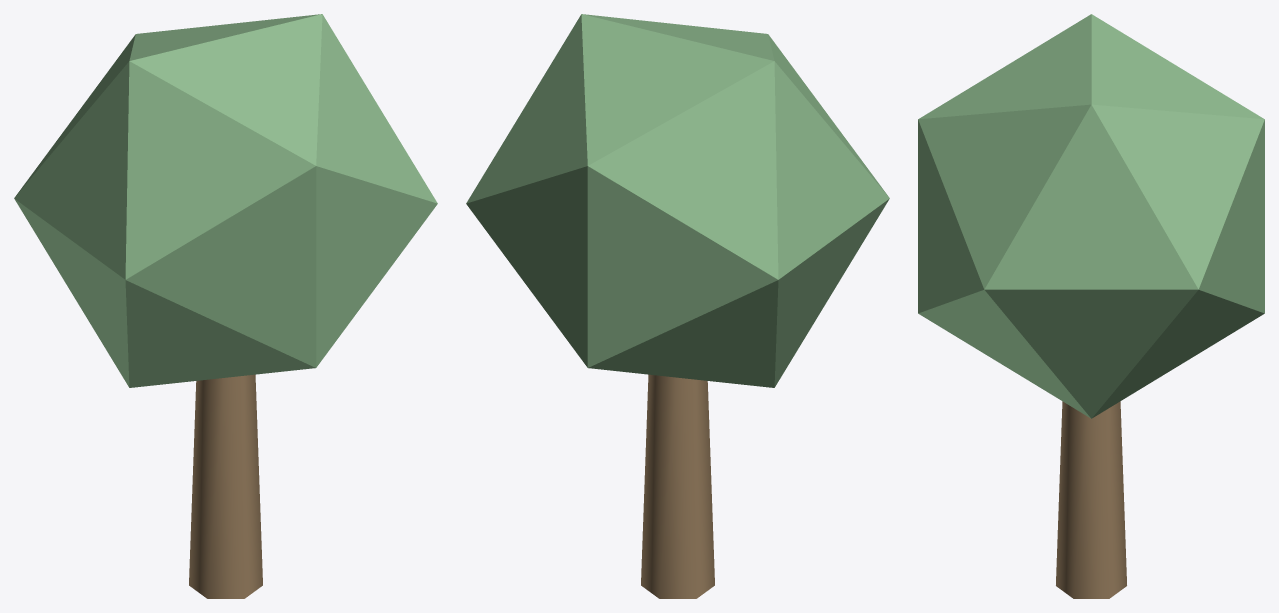
3 renders of one model, left to right at view 1: azimuth 30°, elevation 25°; view 2: azimuth 150°, elevation 25°; view 3: azimuth 270°, elevation 25°, orthographic. The views are drawn at different scales.
Size of the model in its own units: 3.4 by 5.7 by 3.4.
